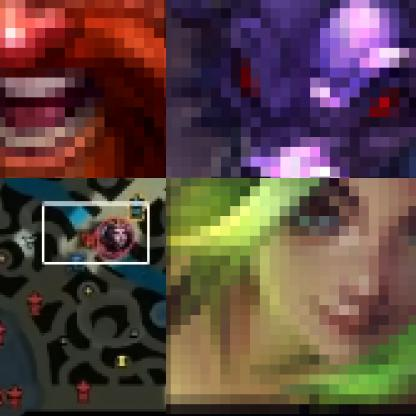Alistar: (166, 0, 415, 177)
Gragas: (0, 0, 165, 177)
Leblanc: (97, 218, 136, 254)
Zeri: (166, 178, 415, 415)
